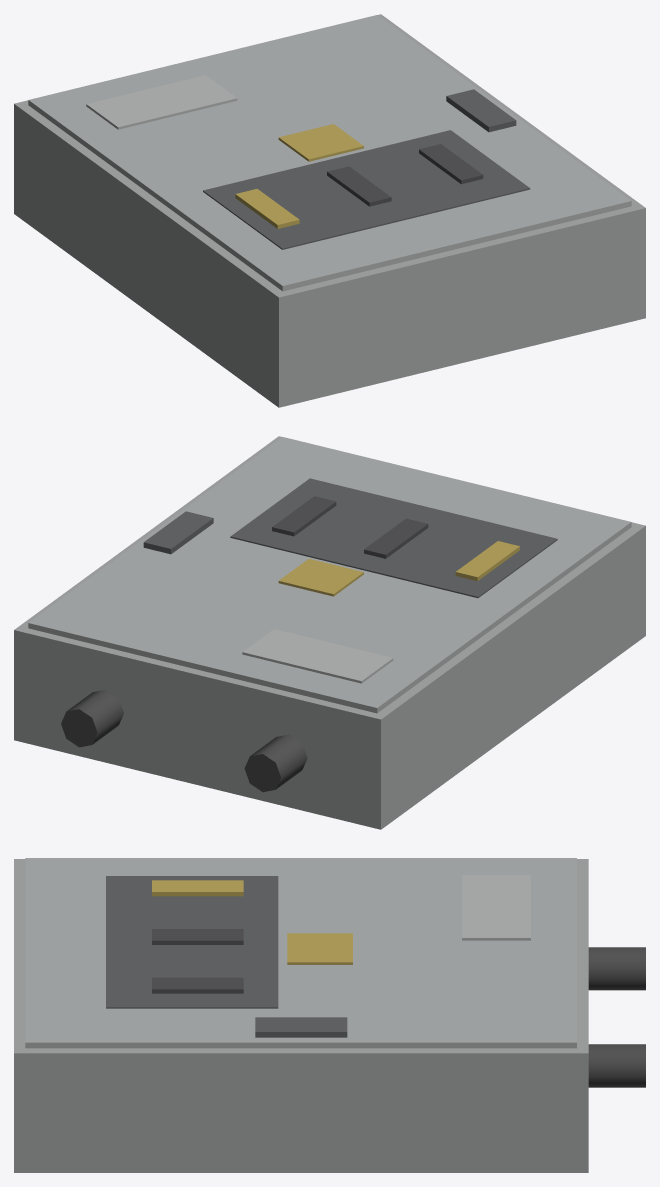
File: breaker63_steel.glb
3 renders of one model, top to bottom at view 1: azimuth 30°, elevation 25°; view 2: azimuth 150°, elevation 25°; view 3: azimuth 270°, elevation 25°, orthographic. The views are drawn at different scales.
Visible parts, largest first — view 1: breaker63_steel; view 2: breaker63_steel; view 3: breaker63_steel.
Part boxes in pixels (<box>): breaker63_steel: <box>14,14,645,407</box>; breaker63_steel: <box>14,436,645,829</box>; breaker63_steel: <box>14,858,645,1172</box>.
Bounding box in the file's own units: 0.4 × 0.126 × 0.55.
